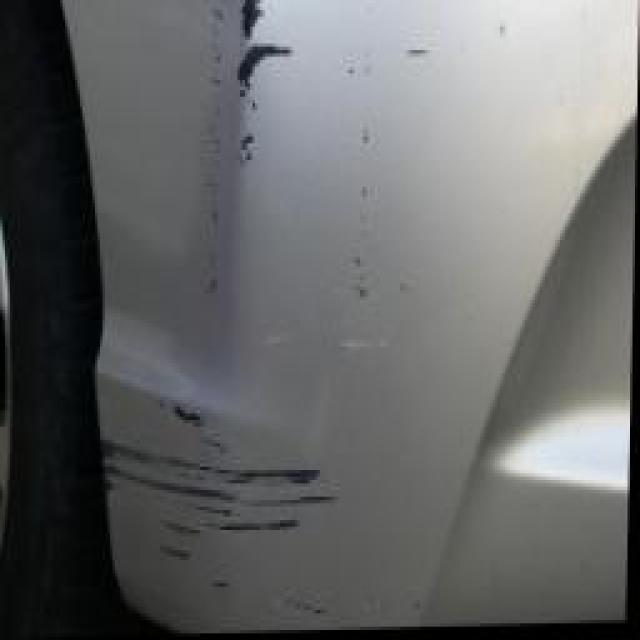Bumper: (118, 0, 491, 635)
